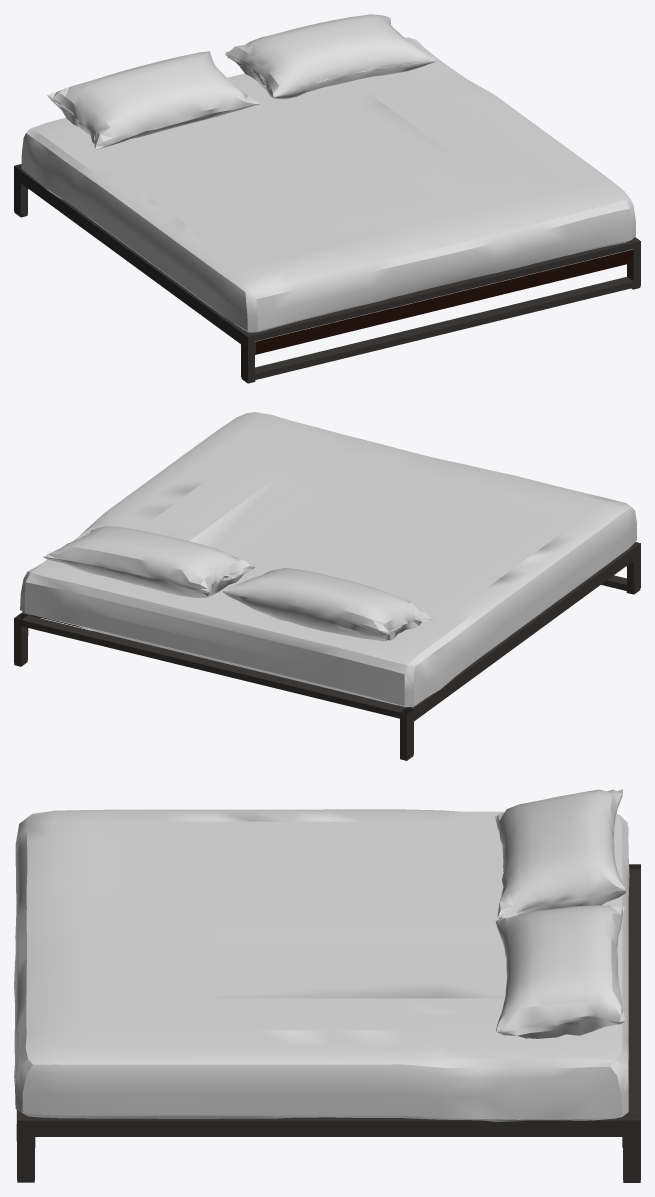
3 views of the same model, one above another, from view 1: azimuth 30°, elevation 25°; view 2: azimuth 150°, elevation 25°; view 3: azimuth 270°, elevation 25° (orthographic). The views are drawn at different scales.
Parts seen in each view (by area): view 1: C-skp3161; view 2: C-skp3161; view 3: C-skp3161.
Part boxes in pixels (x1,y1,x2,y2): C-skp3161: (14,14,640,383); C-skp3161: (14,412,640,760); C-skp3161: (14,789,640,1182).
Bounding box in the file's own units: 2.02 × 0.6468 × 2.07.
Materials: 3 (1 with a texture image).
